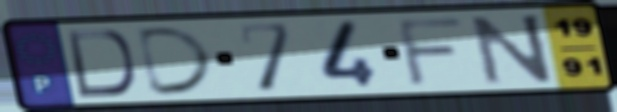4: (316, 17, 387, 92)
7: (237, 21, 295, 93)
D: (133, 24, 220, 98), (63, 28, 140, 99)
F: (392, 16, 468, 88)
N: (467, 12, 558, 87)
